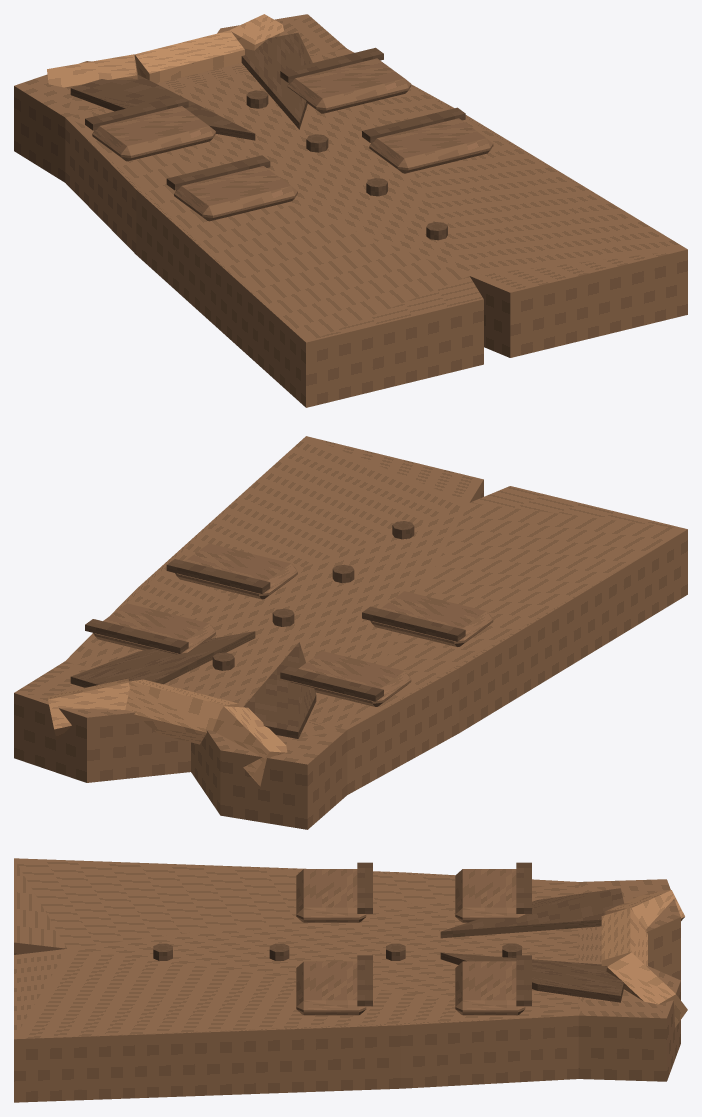
Rendered from sleeveless_duster_faux_fur.glb.
The picture shows the model from 3 angles, top to bottom: view 1: azimuth 30°, elevation 25°; view 2: azimuth 150°, elevation 25°; view 3: azimuth 270°, elevation 25°; orthographic projection. The views are drawn at different scales.
Visible parts, largest first — view 1: block_coat body, block_patch pocket (×4), block_lapel (×2), block_pocket welt (×4), block_thick fur collar 1, block_thick fur collar 0, block_thick fur collar 2; view 2: block_coat body, block_patch pocket (×4), block_lapel (×2), block_pocket welt (×4), block_thick fur collar 1, block_thick fur collar 0, block_thick fur collar 2; view 3: block_coat body, block_patch pocket (×4), block_lapel (×2), block_pocket welt (×4), block_thick fur collar 1, block_thick fur collar 2, block_thick fur collar 0.
Part boxes in pixels (x1,y1,x2,y2): block_coat body: [14, 14, 687, 407]; block_patch pocket (×4): [92, 58, 493, 221]; block_lapel (×2): [70, 32, 312, 140]; block_pocket welt (×4): [85, 47, 465, 190]; block_thick fur collar 1: [134, 30, 244, 83]; block_thick fur collar 0: [47, 54, 137, 87]; block_thick fur collar 2: [229, 14, 283, 50]; block_coat body: [14, 436, 687, 829]; block_patch pocket (×4): [93, 543, 493, 706]; block_lapel (×2): [70, 631, 316, 738]; block_pocket welt (×4): [85, 559, 465, 701]; block_thick fur collar 1: [125, 679, 239, 744]; block_thick fur collar 0: [213, 706, 287, 786]; block_thick fur collar 2: [47, 678, 129, 739]; block_coat body: [14, 858, 680, 1102]; block_patch pocket (×4): [296, 869, 525, 1015]; block_lapel (×2): [440, 888, 624, 1002]; block_pocket welt (×4): [357, 862, 531, 1006]; block_thick fur collar 1: [601, 908, 647, 965]; block_thick fur collar 2: [606, 952, 687, 1027]; block_thick fur collar 0: [605, 890, 684, 928].
Bounding box in the file's own units: 0.6097 × 0.1319 × 0.9598.
Materials: 1 (1 with a texture image).
